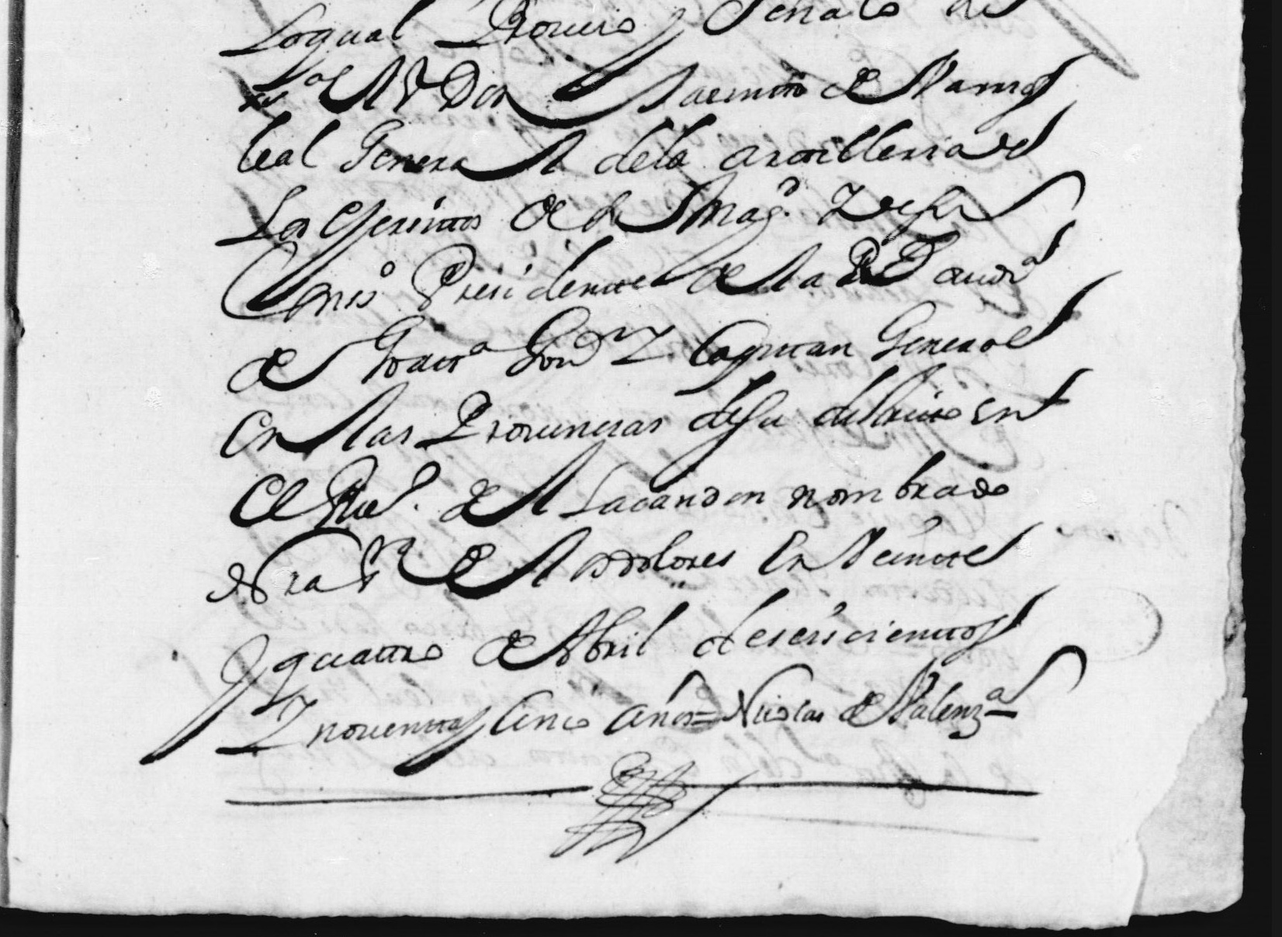lacandon: (558, 462, 764, 518)
